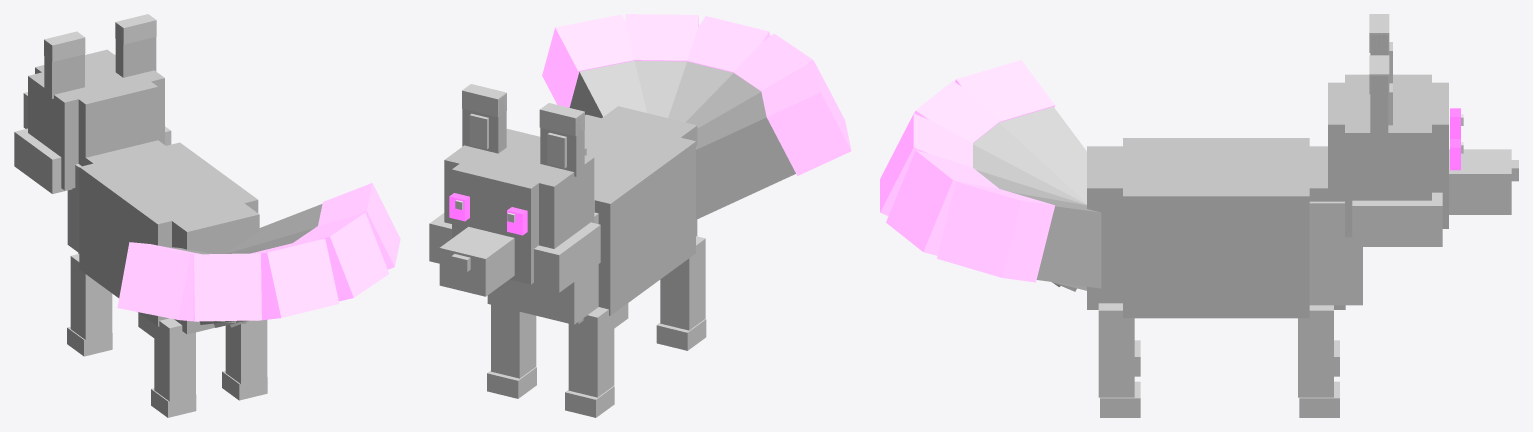
The model's file is VoidKitsune.fbx.
3 renders of one model, left to right at view 1: azimuth 30°, elevation 25°; view 2: azimuth 150°, elevation 25°; view 3: azimuth 270°, elevation 25°, orthographic. The views are drawn at different scales.
Visible parts, largest first — view 1: Void Kitsune_body_2, Void Kitsune_head_16, Void Kitsune_tail_31, Void Kitsune_tail_33, Void Kitsune_body_3, Void Kitsune_tail_35, Void Kitsune_tail_37, Void Kitsune_head_15, Void Kitsune_legBL_9, Void Kitsune_tail_39, Void Kitsune_legFL_5, Void Kitsune_body_0 (+14 smaller); view 2: Void Kitsune_tail_32, Void Kitsune_body_2, Void Kitsune_tail_33, Void Kitsune_head_16, Void Kitsune_head_15, Void Kitsune_body_0, Void Kitsune_body_3, Void Kitsune_tail_39, Void Kitsune_head_18, Void Kitsune_head_17, Void Kitsune_legFL_5, Void Kitsune_body_4 (+22 smaller); view 3: Void Kitsune_body_2, Void Kitsune_body_0, Void Kitsune_body_3, Void Kitsune_tail_39, Void Kitsune_head_15, Void Kitsune_tail_37, Void Kitsune_body_4, Void Kitsune_tail_38, Void Kitsune_head_17, Void Kitsune_head_18, Void Kitsune_tail_32, Void Kitsune_tail_33 (+15 smaller).
Part boxes in pixels (<box>): Void Kitsune_body_2: <box>79,142,258,252</box>; Void Kitsune_head_16: <box>35,49,157,148</box>; Void Kitsune_tail_31: <box>250,238,339,320</box>; Void Kitsune_tail_33: <box>117,242,201,321</box>; Void Kitsune_body_3: <box>78,140,259,253</box>; Void Kitsune_tail_35: <box>193,253,261,321</box>; Void Kitsune_tail_37: <box>293,212,389,301</box>; Void Kitsune_head_15: <box>28,54,164,146</box>; Void Kitsune_legBL_9: <box>154,318,195,401</box>; Void Kitsune_tail_39: <box>318,183,400,269</box>; Void Kitsune_legFL_5: <box>70,254,112,339</box>; Void Kitsune_body_0: <box>79,218,168,326</box>; Void Kitsune_tail_32: <box>696,92,795,219</box>; Void Kitsune_body_2: <box>584,114,695,259</box>; Void Kitsune_tail_33: <box>761,61,851,175</box>; Void Kitsune_head_16: <box>452,129,586,236</box>; Void Kitsune_head_15: <box>444,137,594,234</box>; Void Kitsune_body_0: <box>598,197,695,315</box>; Void Kitsune_body_3: <box>584,106,697,212</box>; Void Kitsune_tail_39: <box>542,14,634,107</box>; Void Kitsune_head_18: <box>439,226,514,296</box>; Void Kitsune_head_17: <box>429,213,600,292</box>; Void Kitsune_legFL_5: <box>568,307,614,397</box>; Void Kitsune_body_4: <box>487,212,598,324</box>; Void Kitsune_body_2: <box>1123,138,1309,257</box>; Void Kitsune_body_0: <box>1123,257,1309,318</box>; Void Kitsune_body_3: <box>1087,146,1344,248</box>; Void Kitsune_tail_39: <box>937,181,1055,282</box>; Void Kitsune_head_15: <box>1345,74,1431,184</box>; Void Kitsune_tail_37: <box>886,150,999,255</box>; Void Kitsune_body_4: <box>1309,201,1362,305</box>; Void Kitsune_tail_38: <box>1011,192,1101,288</box>; Void Kitsune_head_17: <box>1352,192,1442,246</box>; Void Kitsune_head_18: <box>1449,149,1511,214</box>; Void Kitsune_tail_32: <box>999,106,1086,202</box>; Void Kitsune_tail_33: <box>955,60,1055,122</box>.
Bounding box in the file's own units: 215 × 210 × 353.
